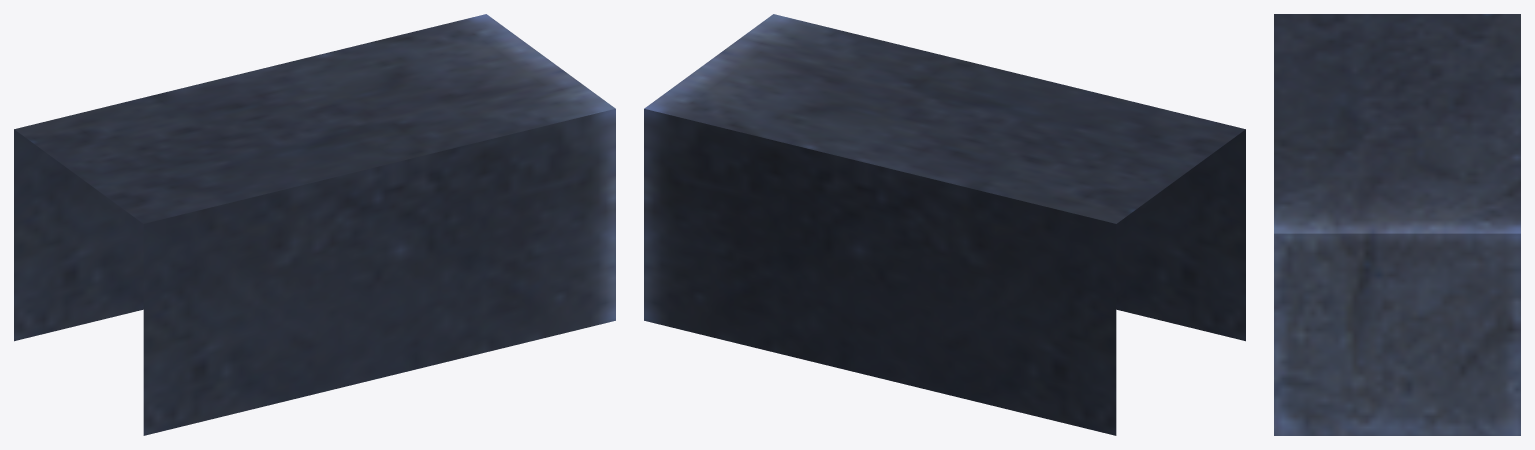
The model's file is FB_MoFangHuanJing_Zhuanqiang03.FBX.
3 renders of one model, left to right at view 1: azimuth 30°, elevation 25°; view 2: azimuth 150°, elevation 25°; view 3: azimuth 270°, elevation 25°, orthographic. The views are drawn at different scales.
Visible parts, largest first — view 1: Object07; view 2: Object07; view 3: Object07.
Boxes of the visible parts, x1,y1,x2,y2 form: Object07: (14,14,615,435); Object07: (644,14,1245,435); Object07: (1274,14,1520,435).
Bounding box in the file's own units: 2.31 × 0.9905 × 1.1.
